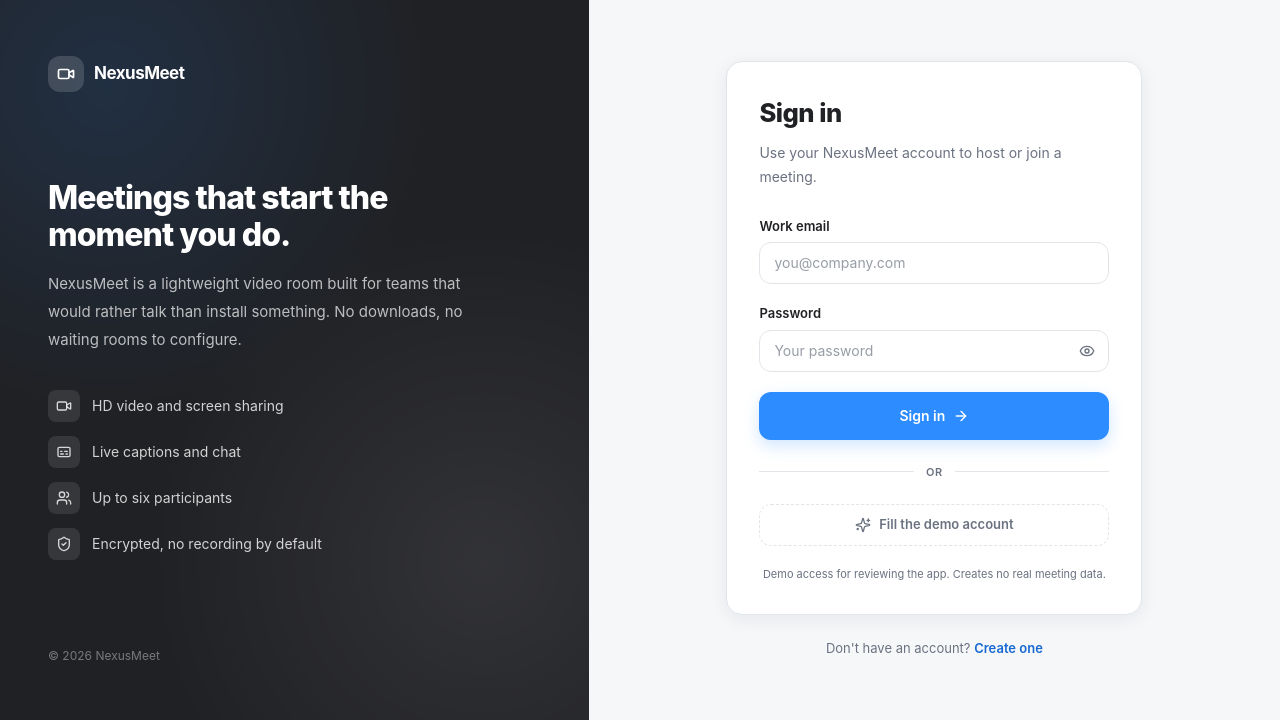
Test: SignInForm › fills the demo credentials that match the seeded account
Click the button "Fill the demo account" at (934, 525), box [759,504,1109,546]
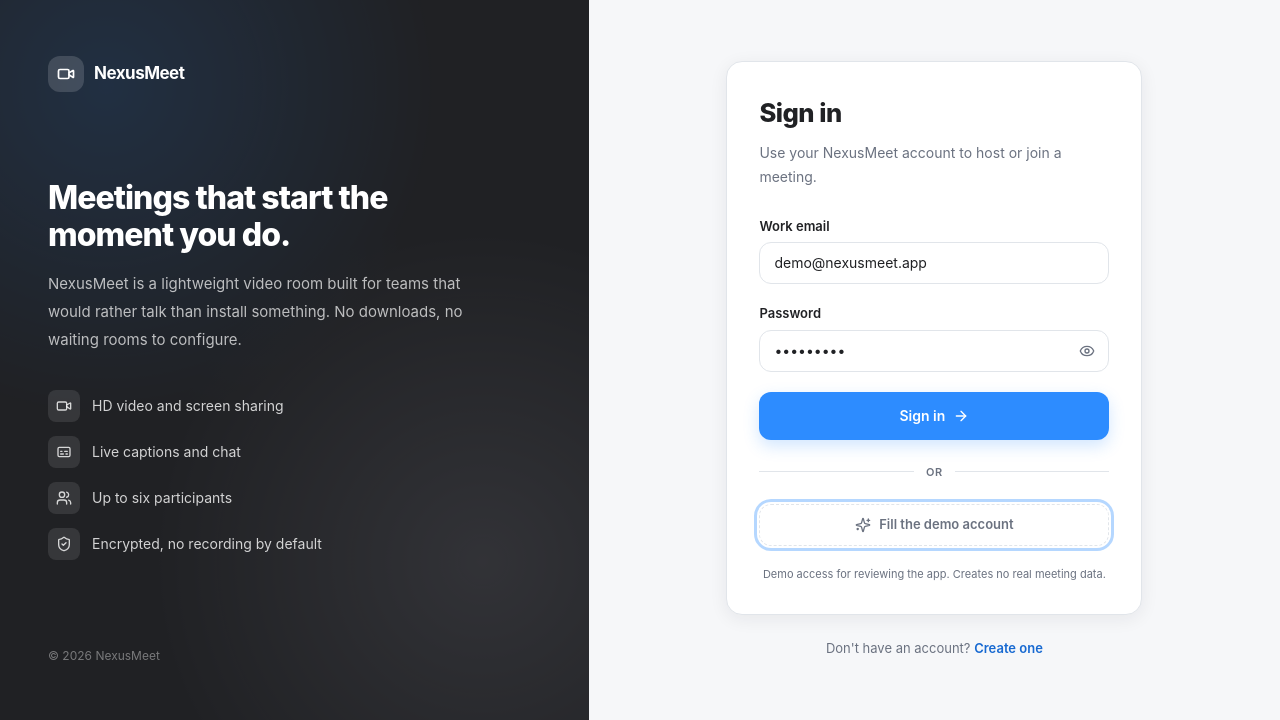
Expected: the field labelled "Work email" holds "demo@nexusmeet.app", [759,242,1109,284]
Expected: the password field labelled "Password" holds "demo12345", [759,330,1109,372]
